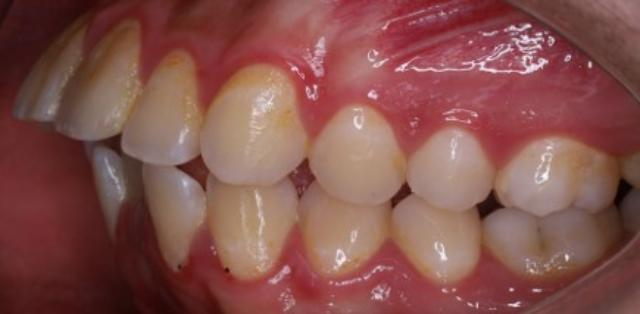canine class II 3/4: (199, 60, 391, 290)
molar class I: (478, 121, 624, 284)
